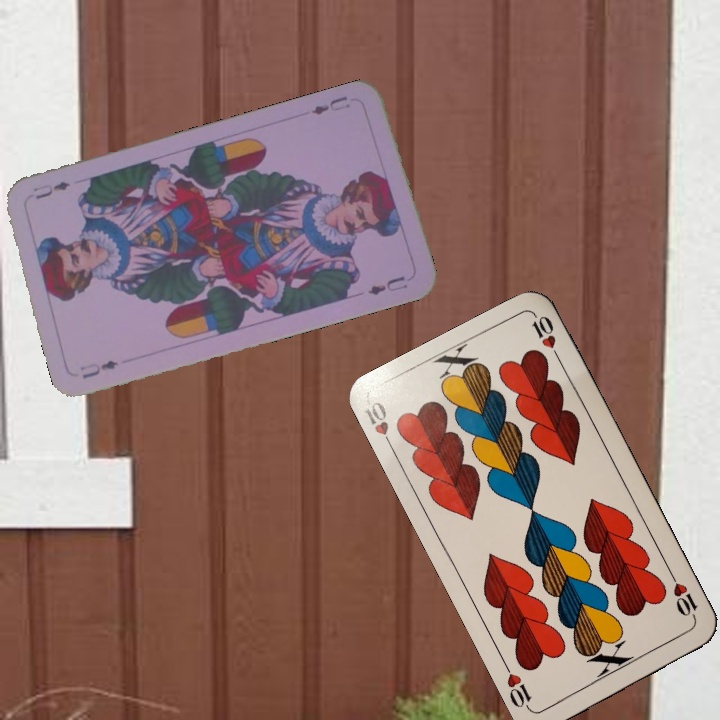EU: (76, 356, 121, 382), (308, 91, 350, 117)
H10: (360, 397, 398, 455), (666, 569, 700, 624)
